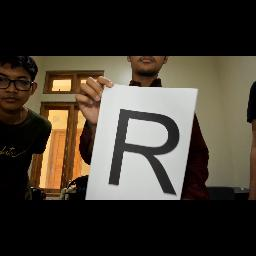r: (104, 102, 186, 200)
